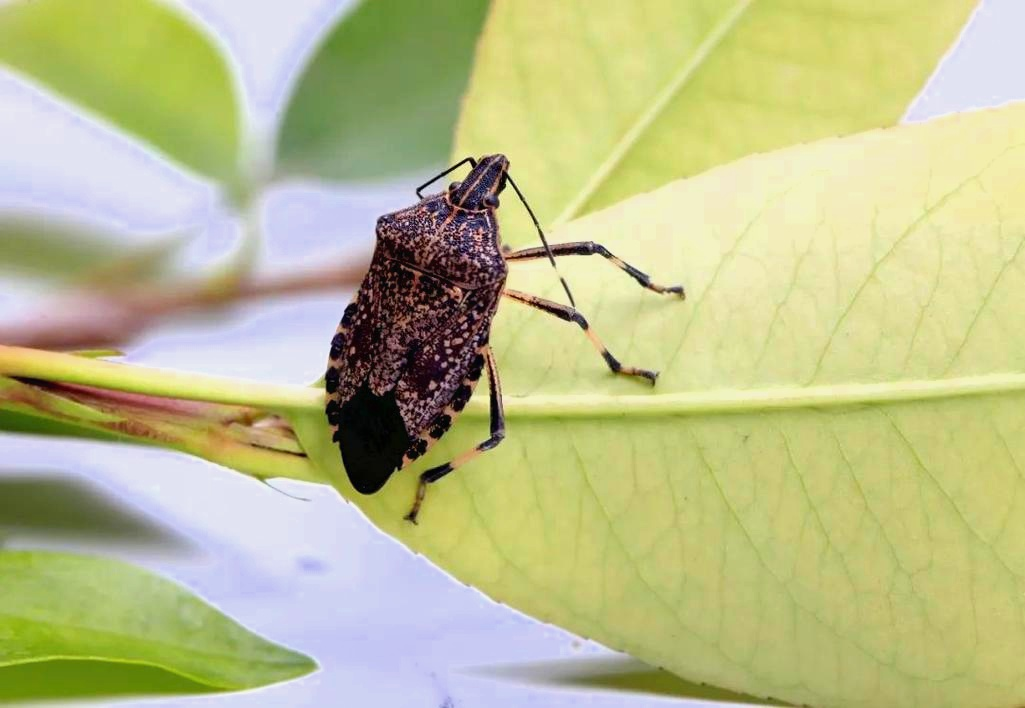Stink_Bug: (359, 150, 541, 487)
